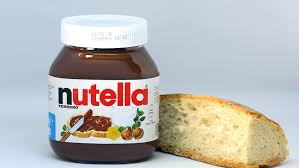nutella: (47, 14, 161, 164)
